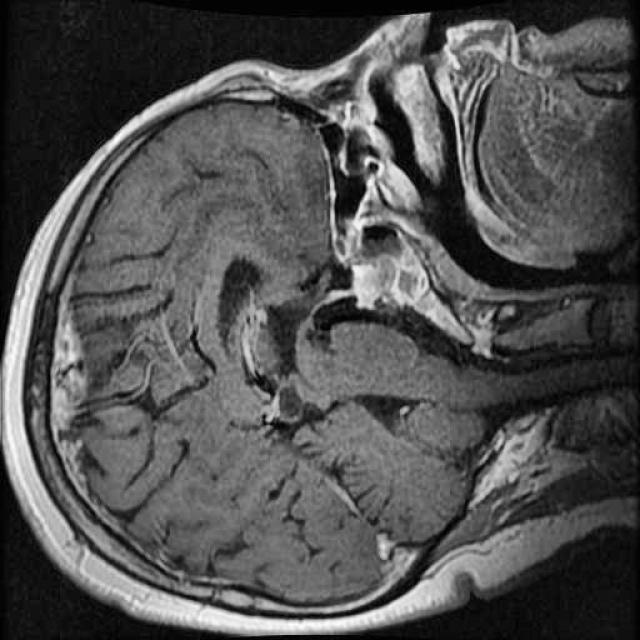Tumor: (342, 249, 404, 319)
